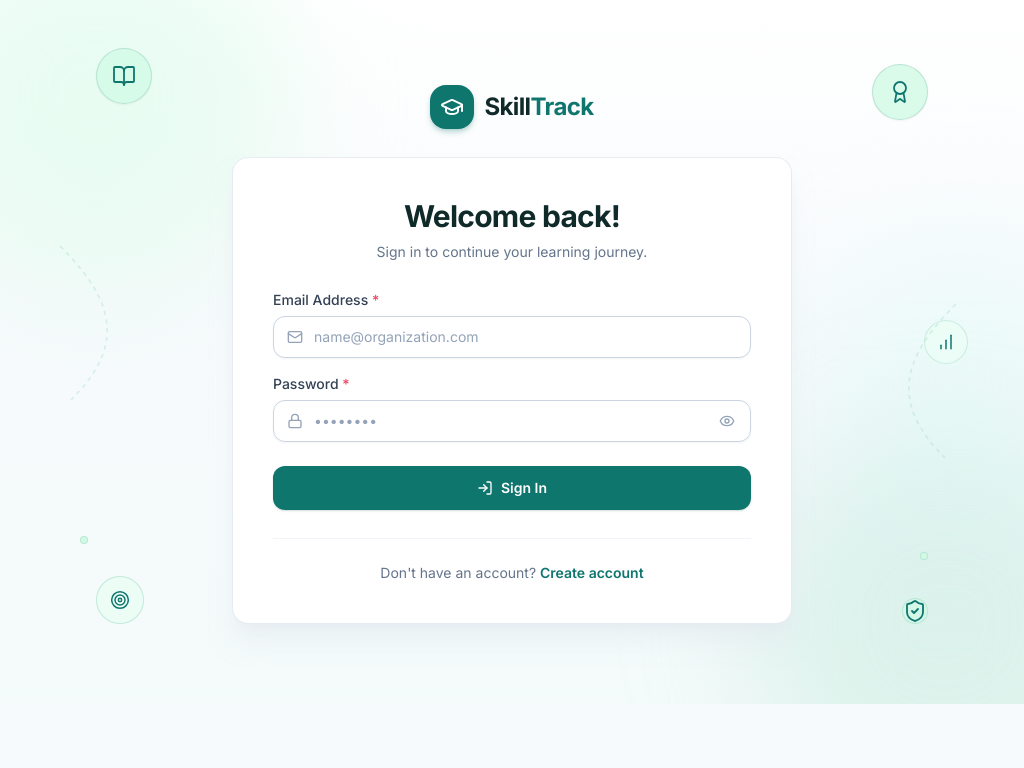
LoginPage (Scenarios 10-16) › 11. displays validation errors for missing or invalid email format
// Submit with empty inputs
Click the button "Sign In".
click(512, 488)  # box [273,466,751,510]
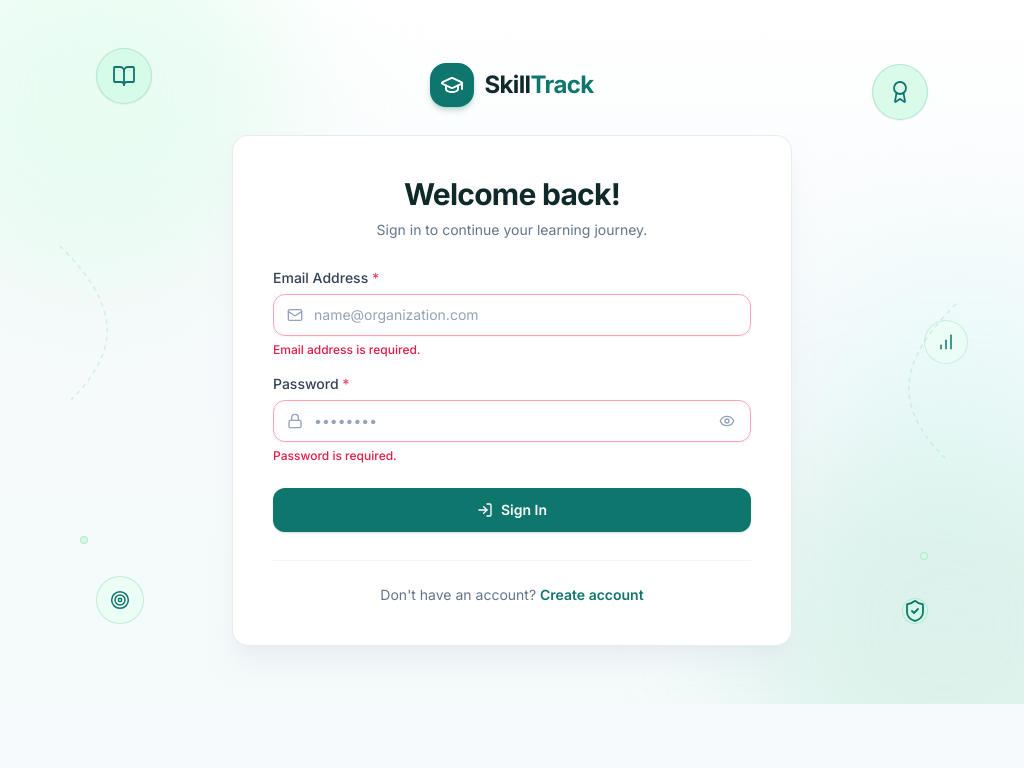
Expected: the text "Email address is required." is shown, [273,342,420,356]
// Enter invalid email
Type "invalid-email" into the field labelled "Email Address *".
click(512, 314); type("invalid-email")  # box [273,294,751,336]
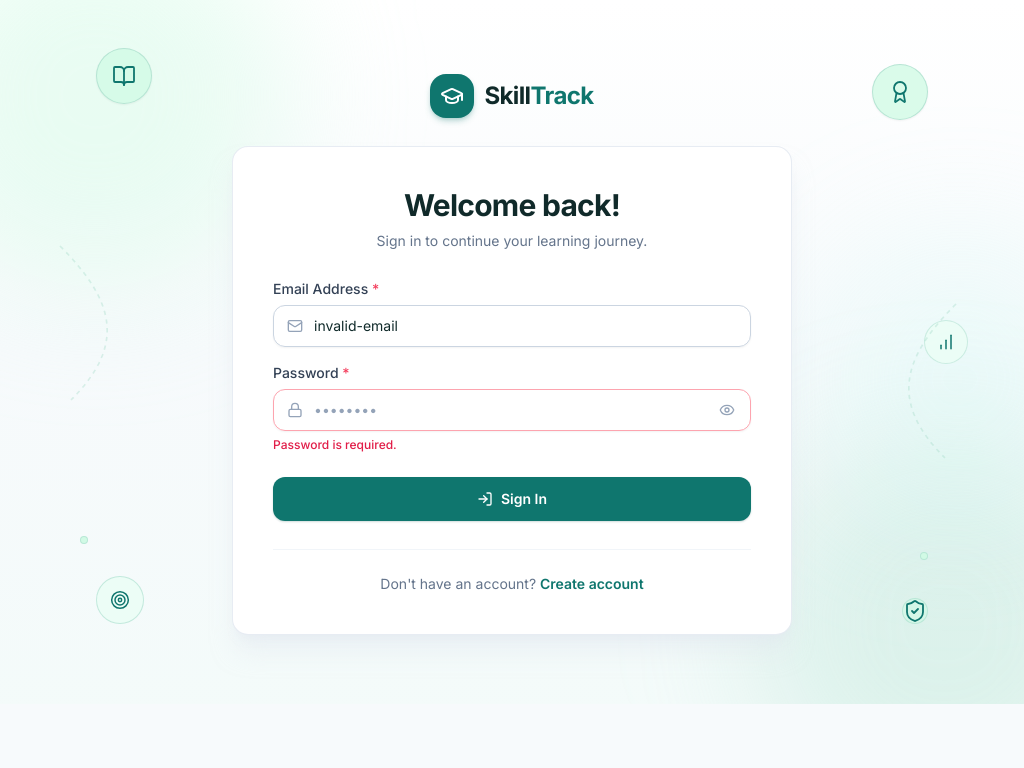
Type "Secret123!" into the password field labelled "Password *".
click(512, 410); type("Secret123!")  # box [273,388,751,430]
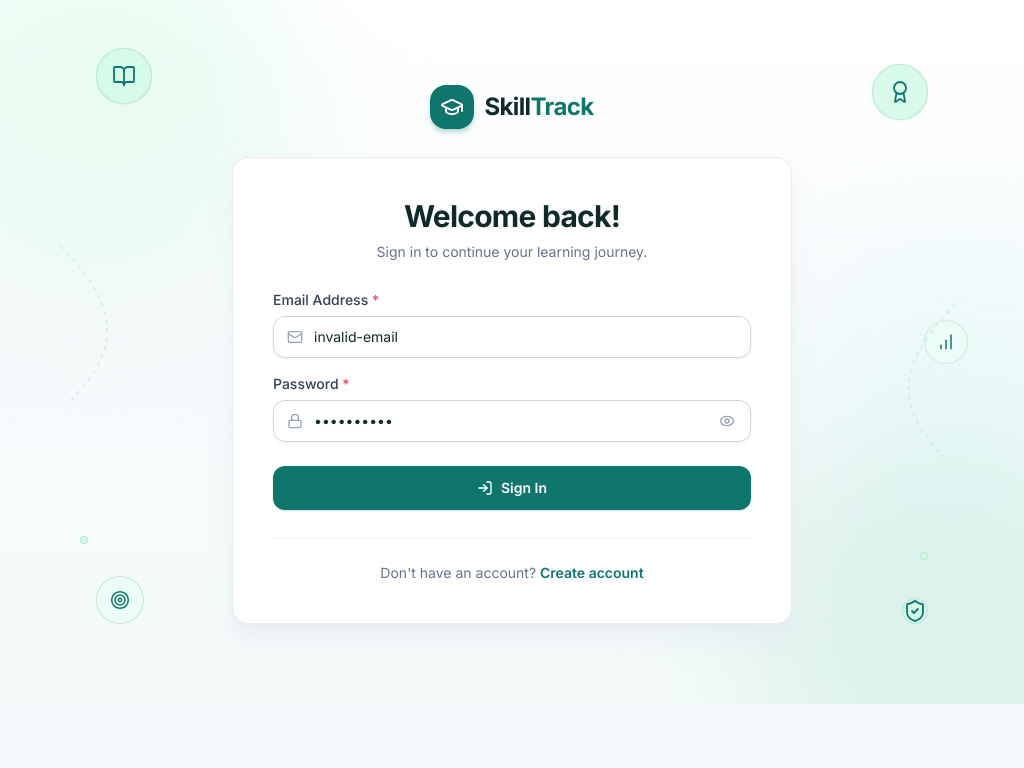
Click the button "Sign In".
click(512, 488)  # box [273,466,751,510]
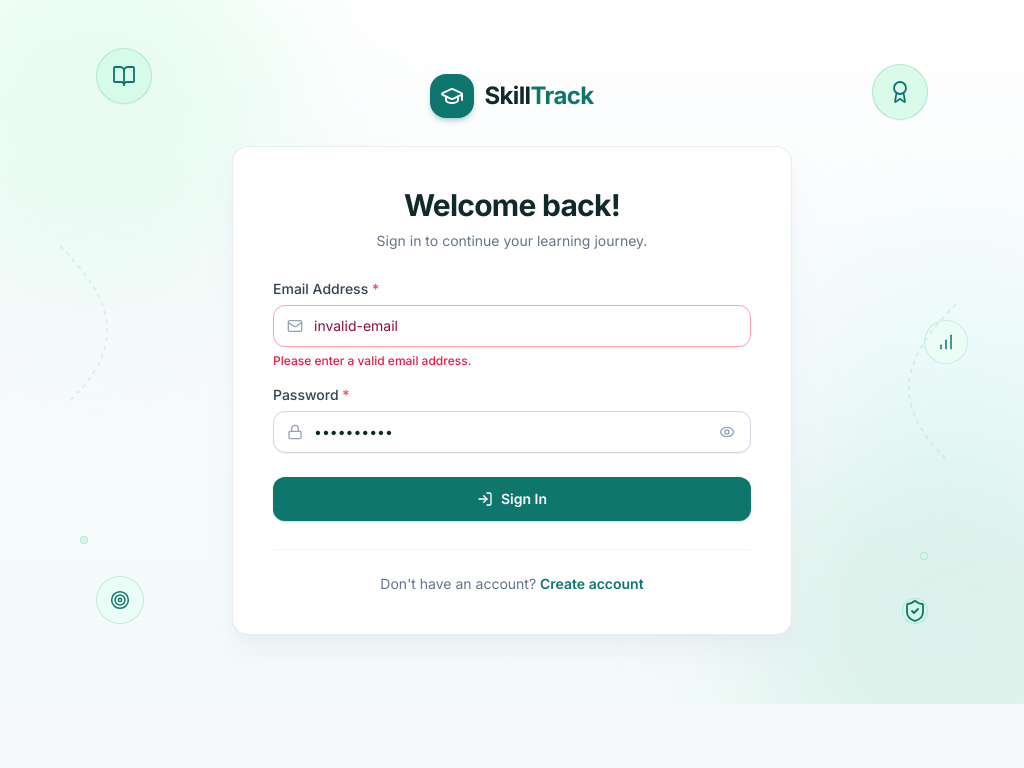
Expected: the text "Please enter a valid email address." is shown, [273,352,471,368]
